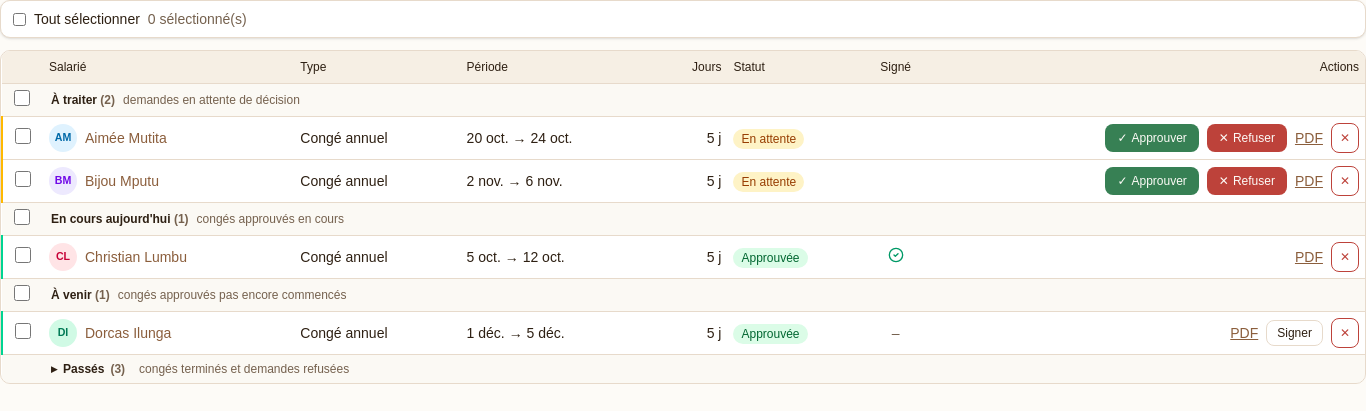
actions groupées › la case d'une section coche toute la section ; « Tout sélectionner » coche ce qui est à l'écran (pas les Passés repliés)
Click the checkbox named "Sélectionner toute la section À traiter" at coordinates (22, 98), box [14,90,30,106]
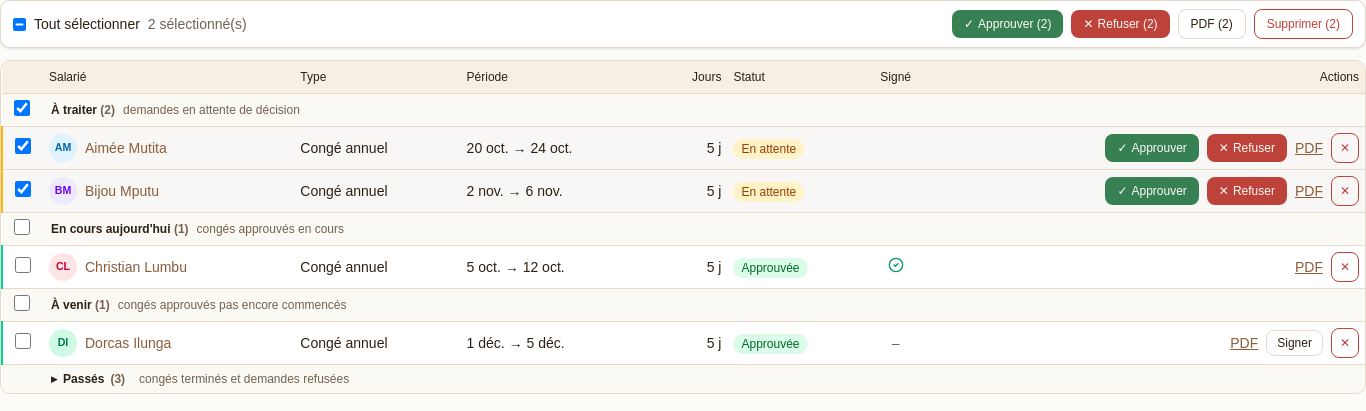
Click the checkbox labelled "Tout sélectionner" at coordinates (20, 24), box [13,18,26,30]
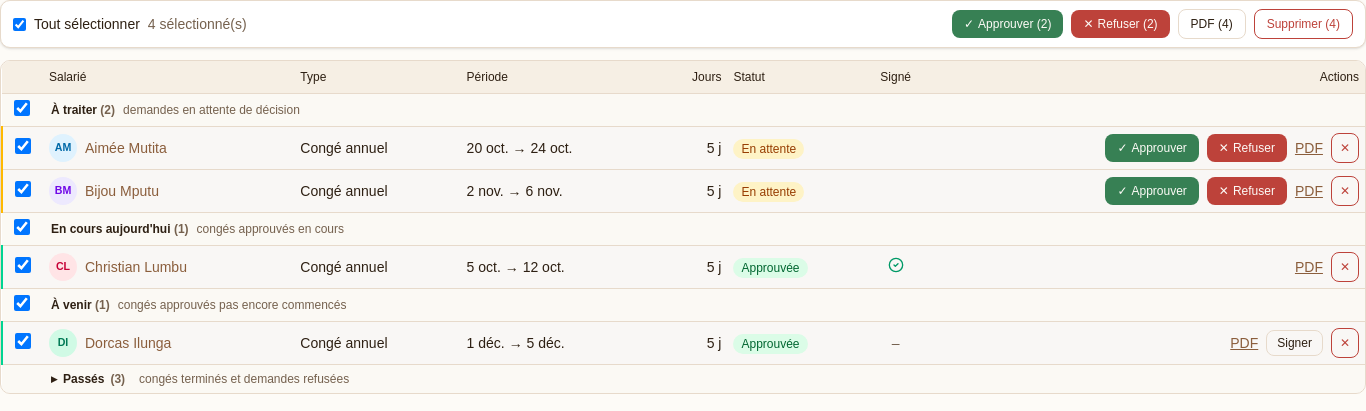
Now the text "4 sélectionné(s)" is shown, box [148,14,247,34]
